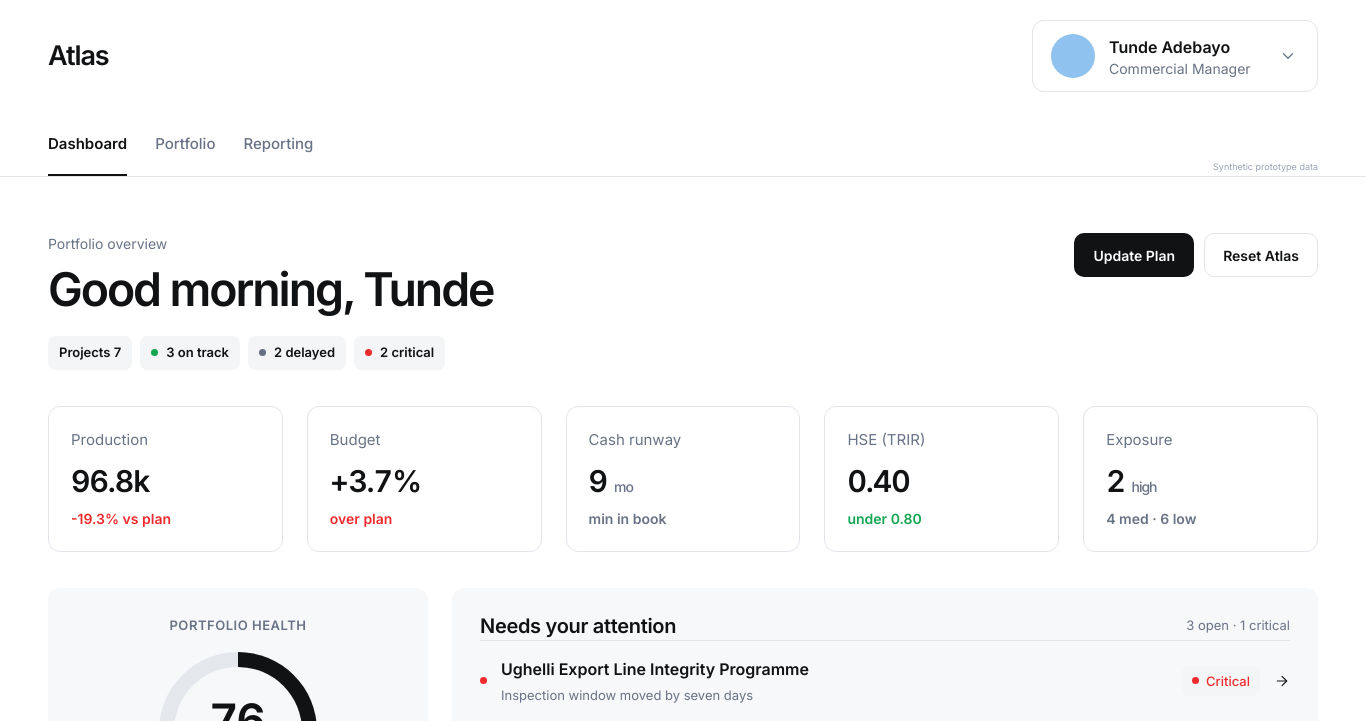
it: route architecture › opens the confirmed plan at review from the Dashboard action
Click the button "Update Plan" at x=1134, y=255, box [1074,233,1194,277]
(page scrolled)
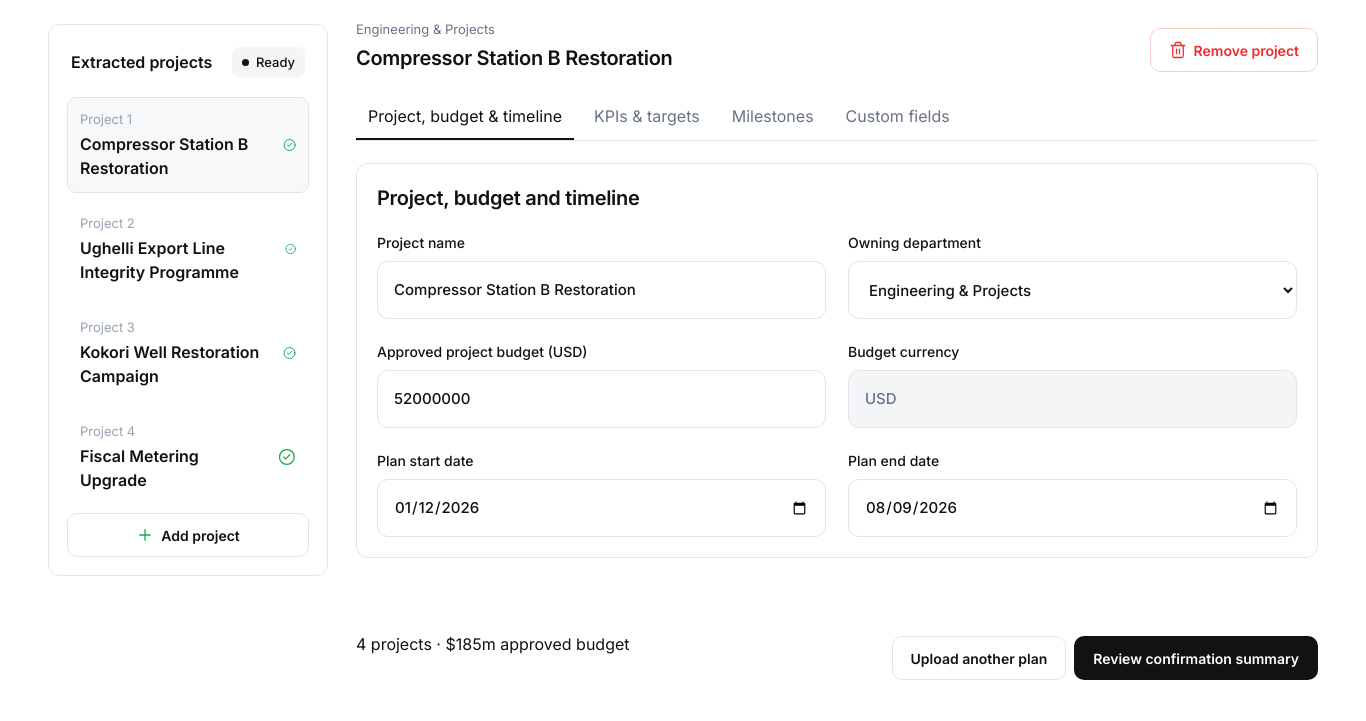
Expected: the button "Upload another plan" is shown, [892,636,1066,680]
